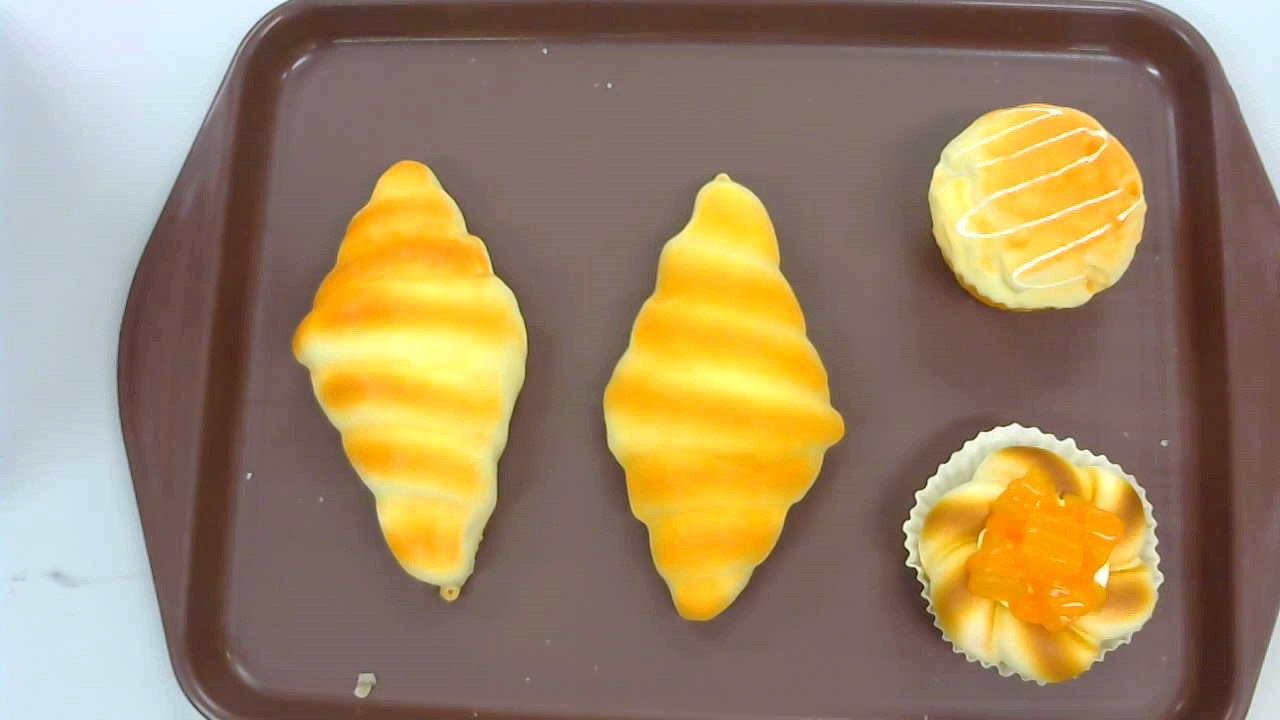croissant: (603, 174, 844, 623), (291, 158, 528, 603)
cupcake: (928, 103, 1147, 313)
mango tart: (901, 422, 1165, 686)
